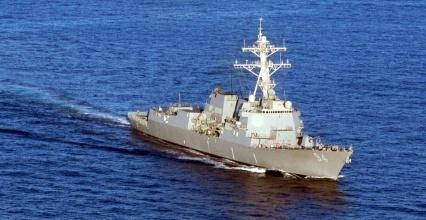warship: (127, 19, 354, 185)
